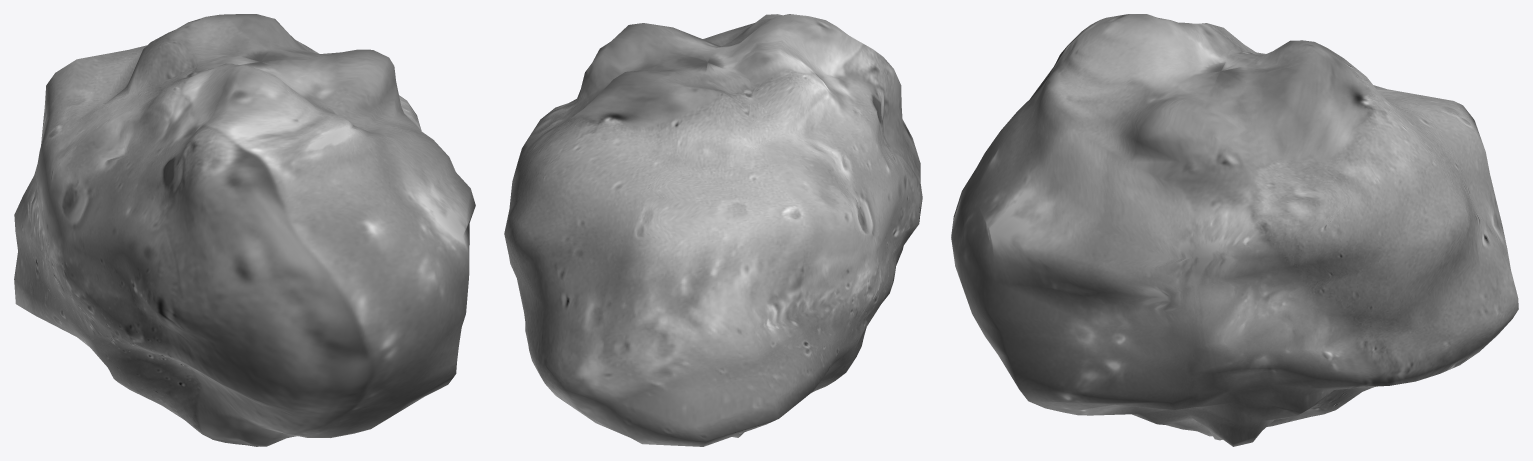
Rendered from rock2.fbx.
3 renders of one model, left to right at view 1: azimuth 30°, elevation 25°; view 2: azimuth 150°, elevation 25°; view 3: azimuth 270°, elevation 25°, orthographic. The views are drawn at different scales.
Parts seen in each view (by area): view 1: pSphere1; view 2: pSphere1; view 3: pSphere1.
Boxes of the visible parts, left/top/right/bottom form: pSphere1: left=14, top=14, right=475, bottom=446; pSphere1: left=504, top=14, right=922, bottom=446; pSphere1: left=951, top=14, right=1518, bottom=446.
Bounding box in the file's own units: 11.48 × 11.92 × 15.51.
